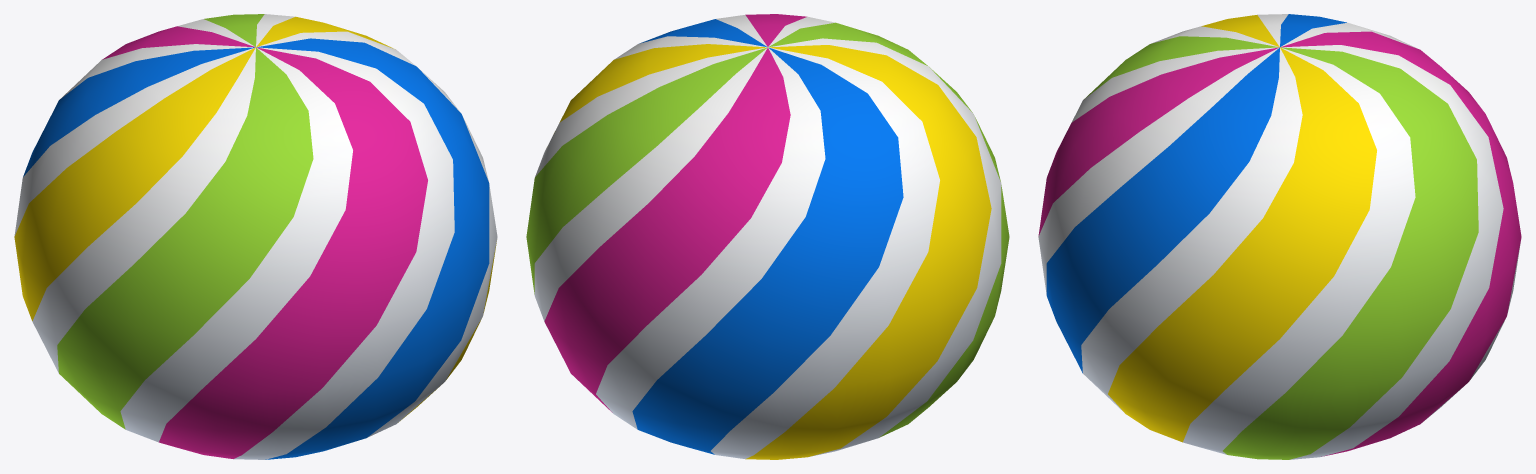
Rendered from lollipop_006.glb.
3 renders of one model, left to right at view 1: azimuth 30°, elevation 25°; view 2: azimuth 150°, elevation 25°; view 3: azimuth 270°, elevation 25°, orthographic.
Visible parts, largest first — view 1: lollipop_006; view 2: lollipop_006; view 3: lollipop_006.
Part boxes in pixels (box(x1,y1,x2,y2)): lollipop_006: box(14, 14, 497, 459); lollipop_006: box(526, 14, 1009, 459); lollipop_006: box(1038, 14, 1521, 459).
Size of the model in its own units: 2.1 by 1.82 by 2.1.
1 material, 1 textured.
